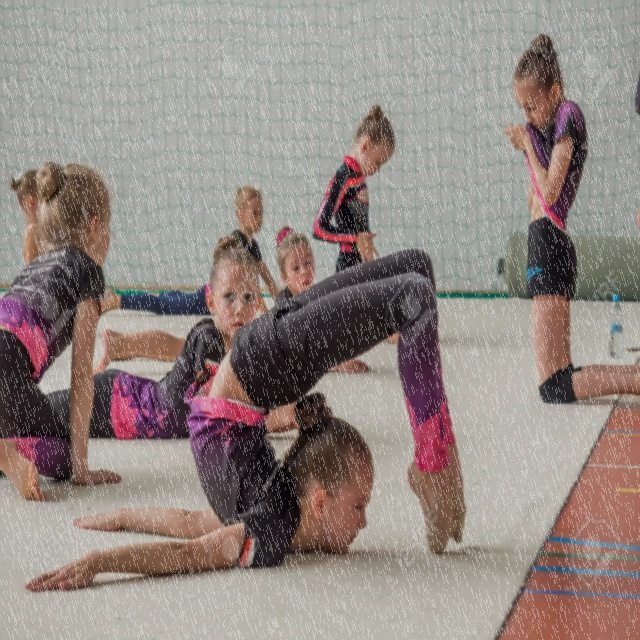pessoa: (22, 247, 468, 592), (503, 30, 640, 405), (44, 235, 262, 441), (0, 156, 127, 507), (91, 224, 372, 376), (95, 184, 283, 319), (312, 106, 396, 276), (9, 164, 60, 274)
